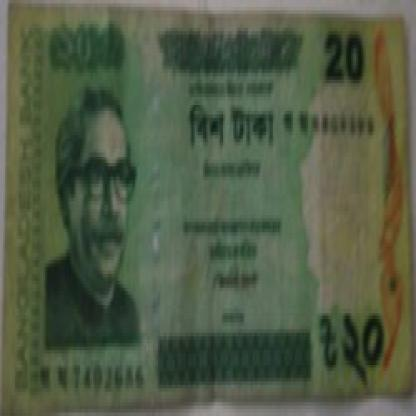Twenty: (188, 90, 283, 156), (320, 309, 392, 388), (46, 21, 130, 73), (321, 28, 378, 90)
